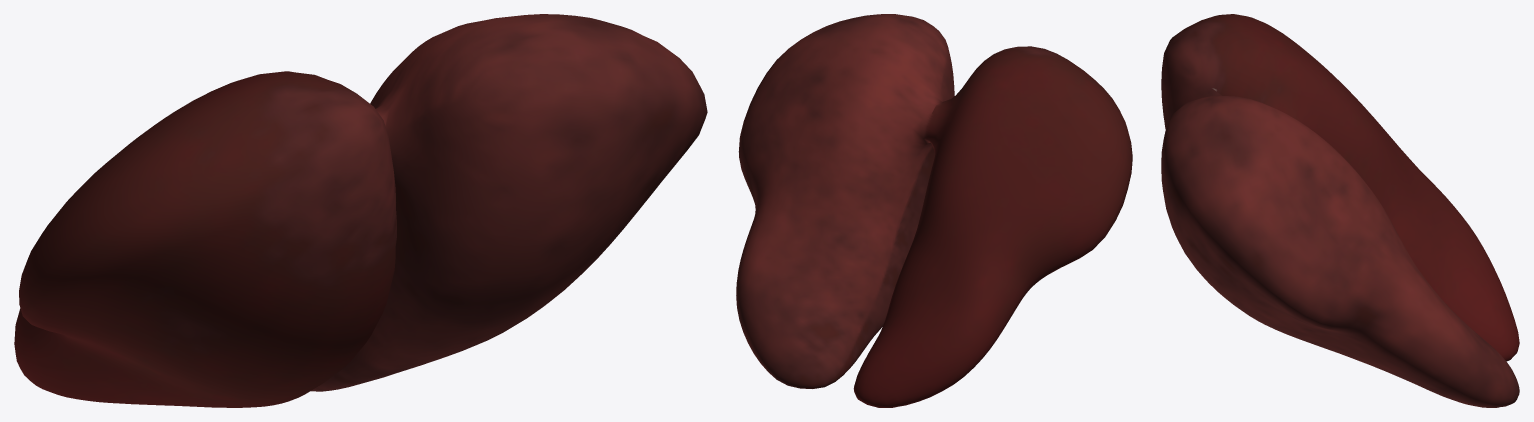
File: Liver.fbx
3 renders of one model, left to right at view 1: azimuth 30°, elevation 25°; view 2: azimuth 150°, elevation 25°; view 3: azimuth 270°, elevation 25°, orthographic. The views are drawn at different scales.
Visible parts, largest first — view 1: Liver_LOD0; view 2: Liver_LOD0; view 3: Liver_LOD0.
Part boxes in pixels (box(x1,y1,x2,y2)): Liver_LOD0: box(14, 14, 707, 407); Liver_LOD0: box(736, 14, 1132, 407); Liver_LOD0: box(1161, 14, 1519, 407).
Size of what is drawn, in the model's own units: 0.1847 by 0.1278 by 0.1339.
Materials: 1 (1 with a texture image).
